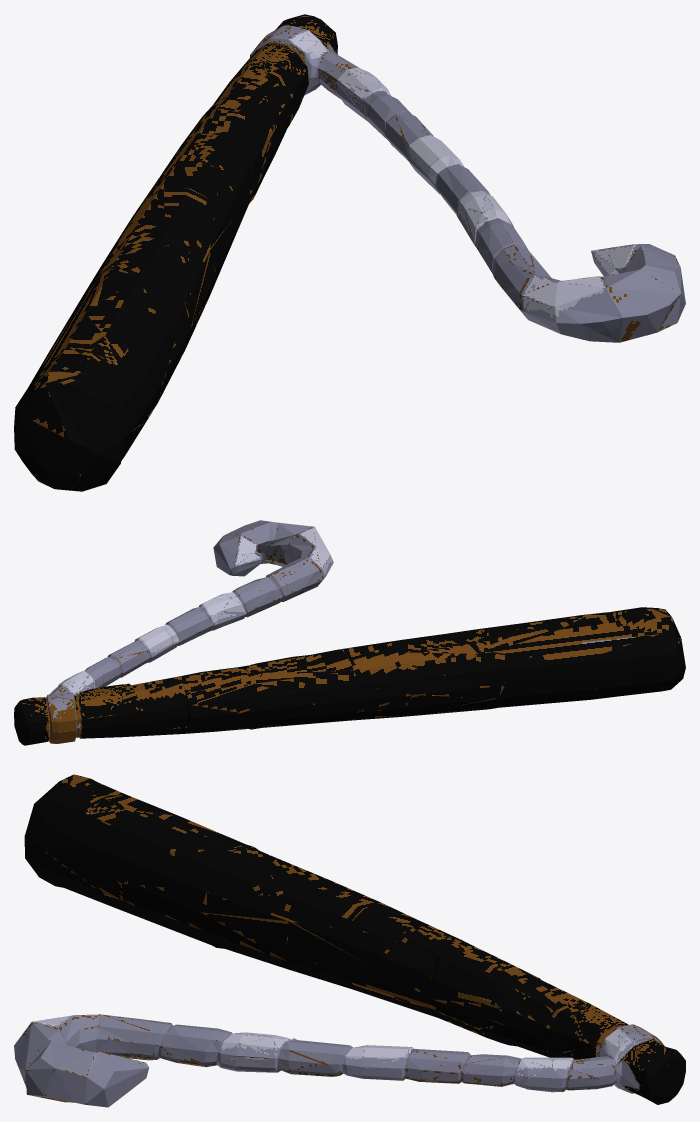
The picture shows the model from 3 angles, top to bottom: view 1: azimuth 30°, elevation 25°; view 2: azimuth 150°, elevation 25°; view 3: azimuth 270°, elevation 25°; orthographic projection. The views are drawn at different scales.
Parts seen in each view (by area): view 1: OBJ12b; view 2: OBJ12b; view 3: OBJ12b.
Boxes of the visible parts, <box> form: OBJ12b: <box>14,14,685,491</box>; OBJ12b: <box>14,520,685,745</box>; OBJ12b: <box>14,774,685,1107</box>.
Bounding box in the file's own units: 0.3738 × 0.0606 × 0.3731.
Materials: 1 (1 with a texture image).
